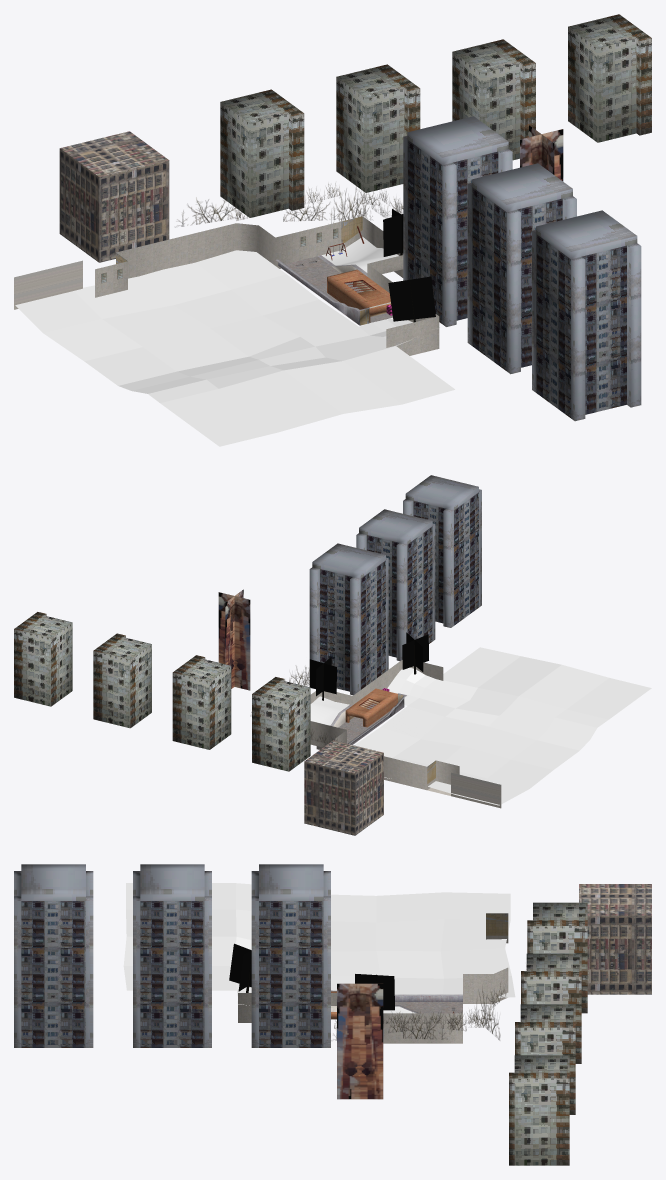
The model's file is constructs.glb.
3 views of the same model, one above another, from view 1: azimuth 30°, elevation 25°; view 2: azimuth 150°, elevation 25°; view 3: azimuth 270°, elevation 25° (orthographic). The views are drawn at different scales.
Parts seen in each view (by area): view 1: building, meadows, sub_building, inner_outer_wall, building_001, dum_tree, dead_trees, hub, water_tower, hill, ground, walls; view 2: building, meadows, sub_building, building_001, inner_outer_wall, water_tower, dum_tree, hub, hill, ground; view 3: building, meadows, sub_building, building_001, water_tower, inner_outer_wall, dead_trees, dum_tree, ground, walls.
Part boxes in pixels (left/top/right/bottom): building: left=403, top=116, right=641, bottom=421; meadows: left=15, top=250, right=454, bottom=446; sub_building: left=220, top=14, right=651, bottom=217; inner_outer_wall: left=14, top=216, right=439, bottom=355; building_001: left=59, top=131, right=169, bottom=262; dum_tree: left=383, top=209, right=435, bottom=322; dead_trees: left=175, top=182, right=403, bottom=227; hub: left=327, top=269, right=391, bottom=322; water_tower: left=520, top=125, right=563, bottom=181; hill: left=318, top=237, right=398, bottom=276; ground: left=278, top=256, right=392, bottom=325; walls: left=276, top=259, right=369, bottom=325; building: left=309, top=475, right=481, bottom=695; meadows: left=354, top=647, right=651, bottom=805; sub_building: left=14, top=612, right=310, bottom=771; building_001: left=304, top=740, right=383, bottom=835; inner_outer_wall: left=310, top=660, right=501, bottom=808; water_tower: left=218, top=589, right=250, bottom=690; dum_tree: left=309, top=632, right=428, bottom=700; hub: left=345, top=688, right=397, bottom=727; hill: left=310, top=696, right=352, bottom=727; ground: left=316, top=703, right=403, bottom=749; building: left=14, top=864, right=330, bottom=1047; meadows: left=123, top=883, right=515, bottom=1005; sub_building: left=509, top=902, right=587, bottom=1165; building_001: left=579, top=884, right=651, bottom=994; water_tower: left=337, top=983, right=383, bottom=1099; inner_outer_wall: left=238, top=913, right=508, bottom=1043; dead_trees: left=331, top=966, right=526, bottom=1040; dum_tree: left=229, top=943, right=394, bottom=1010; ground: left=331, top=1002, right=462, bottom=1019; walls: left=331, top=990, right=462, bottom=1001.
Size of the model in its own units: 186 by 52.59 by 173.
23 materials, 21 textured.
